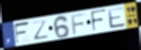6: (52, 15, 71, 40)
E: (106, 6, 127, 30)
F: (90, 8, 108, 33), (13, 21, 31, 46), (70, 12, 87, 36)
Z: (31, 19, 50, 41)
